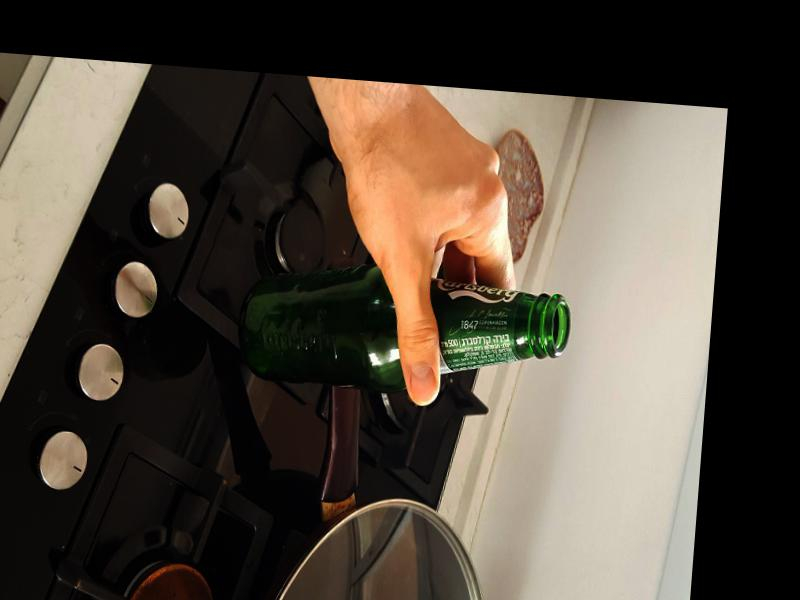Beer: (235, 268, 569, 403)
